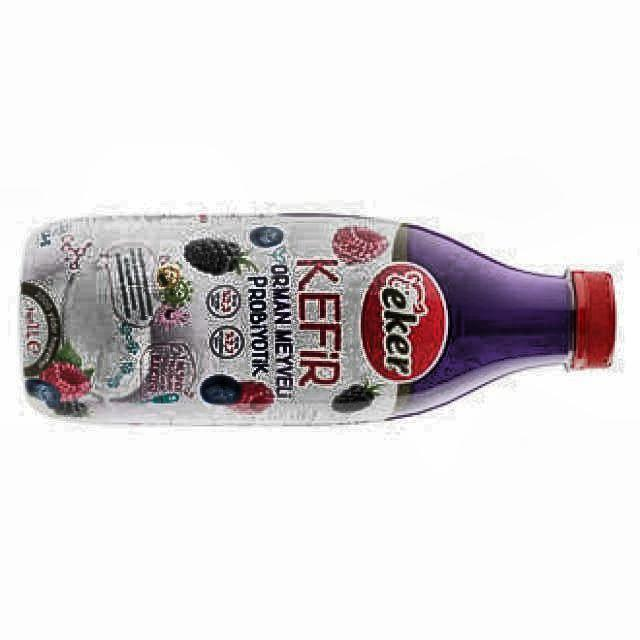plastic: (21, 213, 615, 424)
